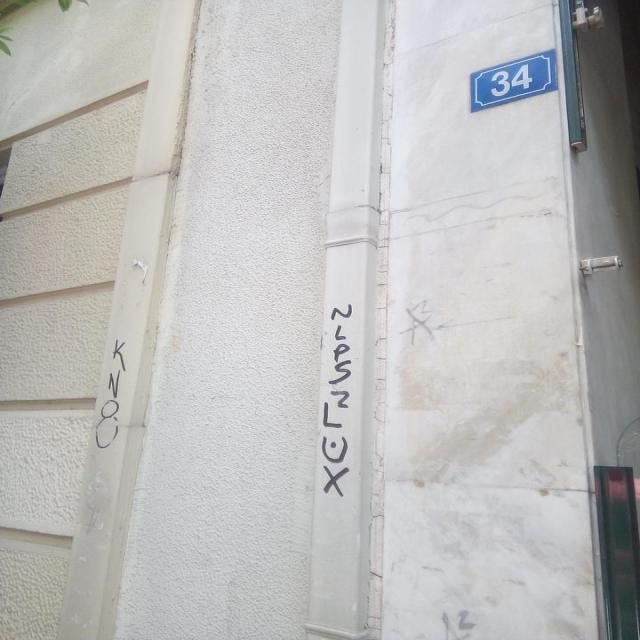nonspitting: (322, 304, 356, 496), (94, 342, 134, 449)
